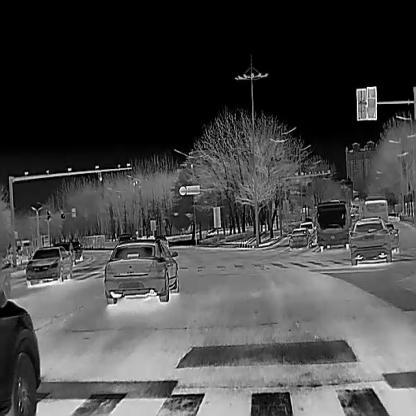car: (0, 282, 42, 415), (103, 237, 179, 304), (349, 214, 392, 265), (25, 245, 72, 283), (315, 198, 349, 250), (361, 196, 388, 224), (380, 220, 400, 254), (57, 239, 83, 264), (289, 226, 312, 249), (298, 220, 317, 242)
